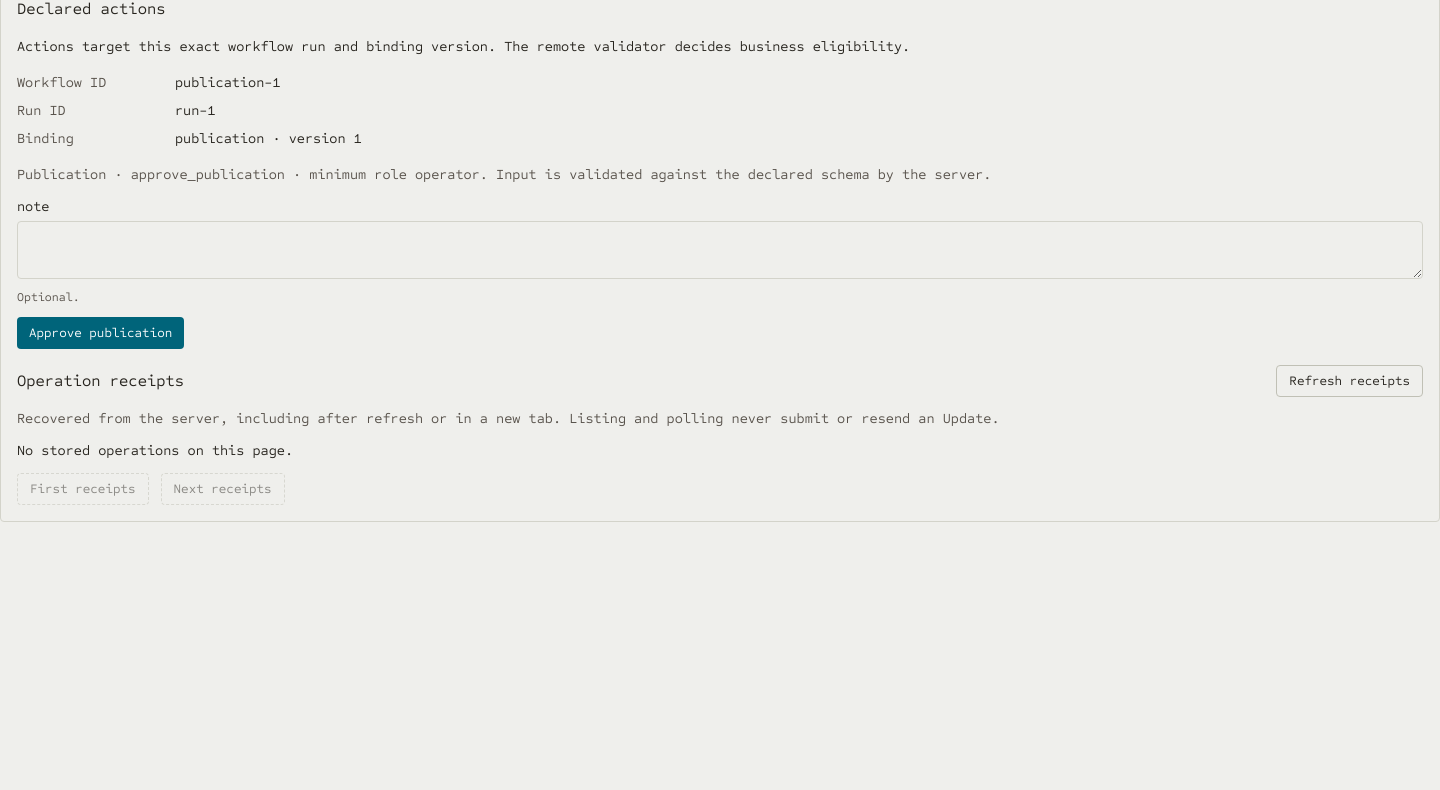
Test: declared connector approval › shows submission failure evidence until normal refresh and lets explicit lookup replace it
Step 1. Click the button "Approve publication" → (101, 333), box [17,317,184,349]
(page scrolled)
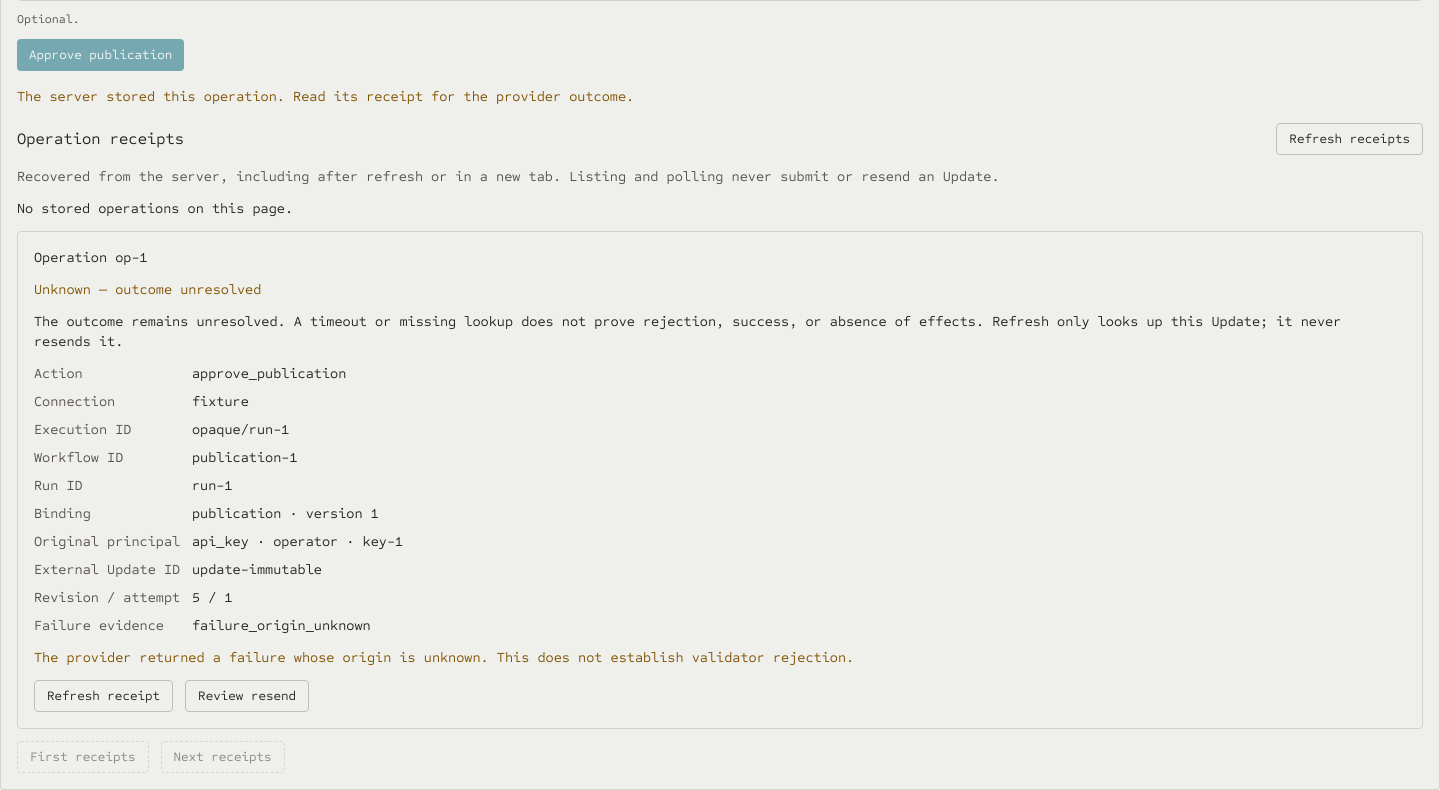
Expected: the element with test id "operation-receipt" is shown
Expected: the text "does not establish validator rejection" is shown, [34,649,854,666]
Expected: the element with test id "operation-receipt" shows "failure_origin_unknown", [192,617,371,634]
Step 2. Click the button "Refresh receipt" → (104, 696), box [34,680,173,712]
(page scrolled)
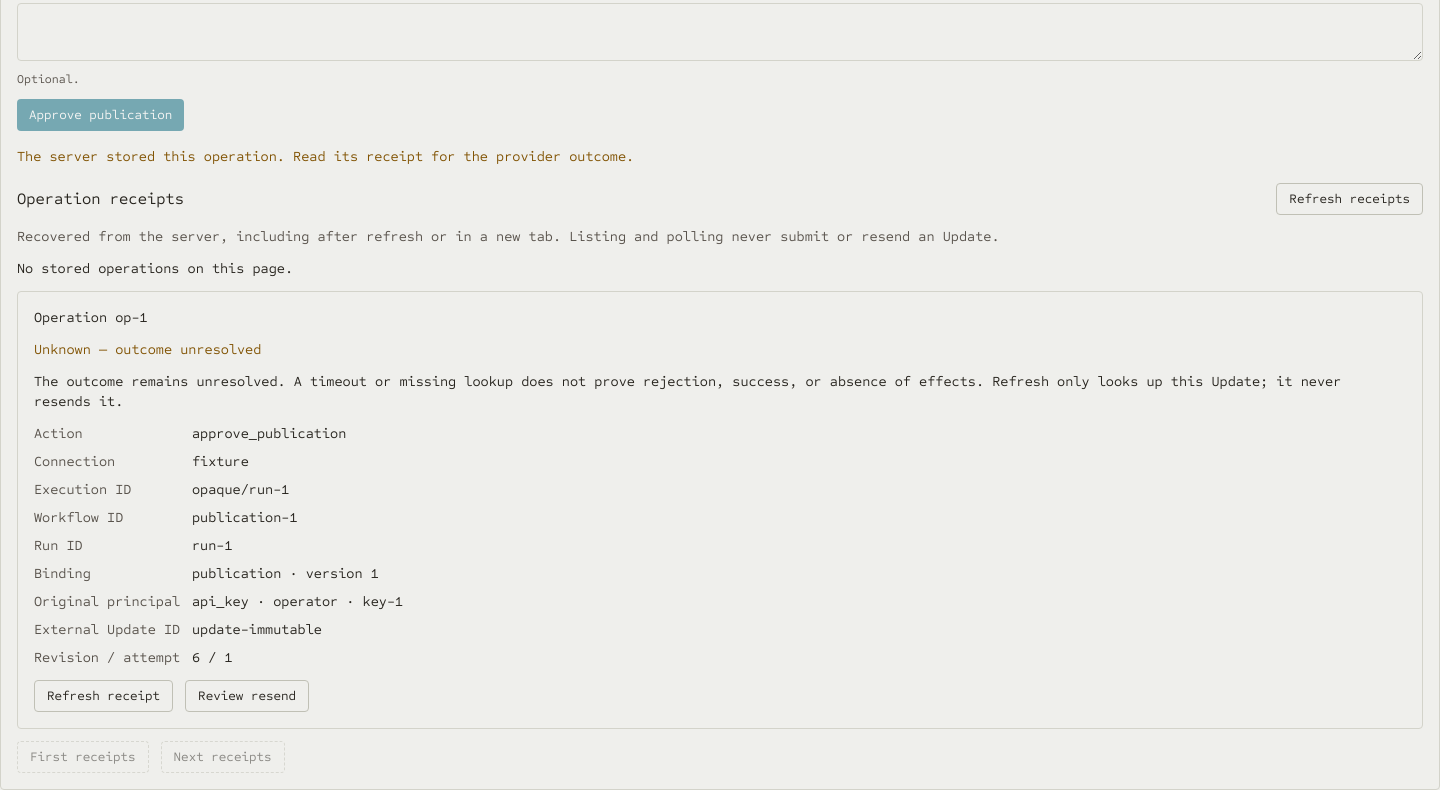
Expected: the message with test id "operation-state" reads "Unknown — outcome unresolved", [34,341,261,358]
Expected: the text "does not establish validator rejection" is gone
